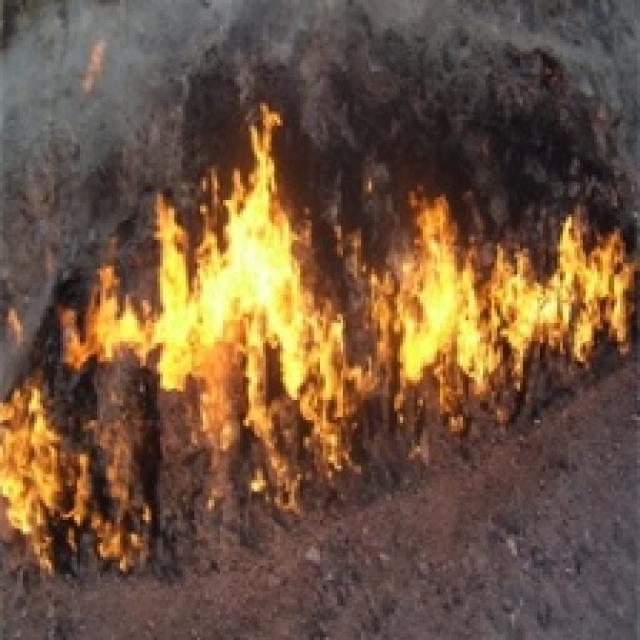Fire: (90, 156, 342, 387), (386, 202, 498, 382), (0, 373, 98, 570), (502, 224, 632, 348)
